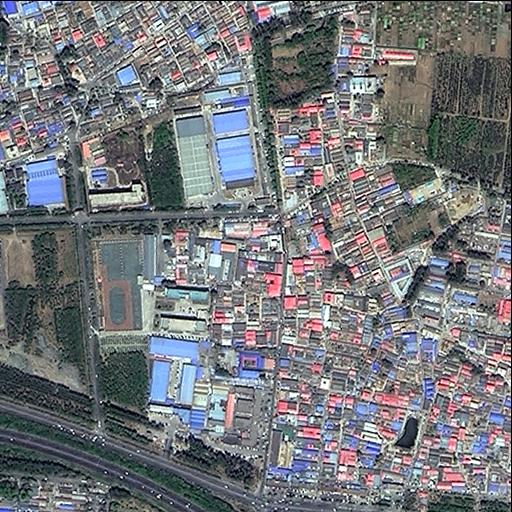school: (90, 238, 213, 337)
